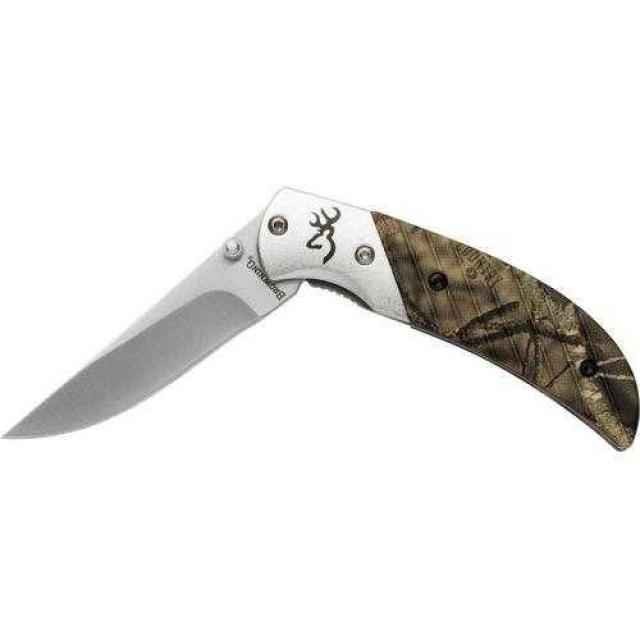Knife: (0, 183, 640, 458)
